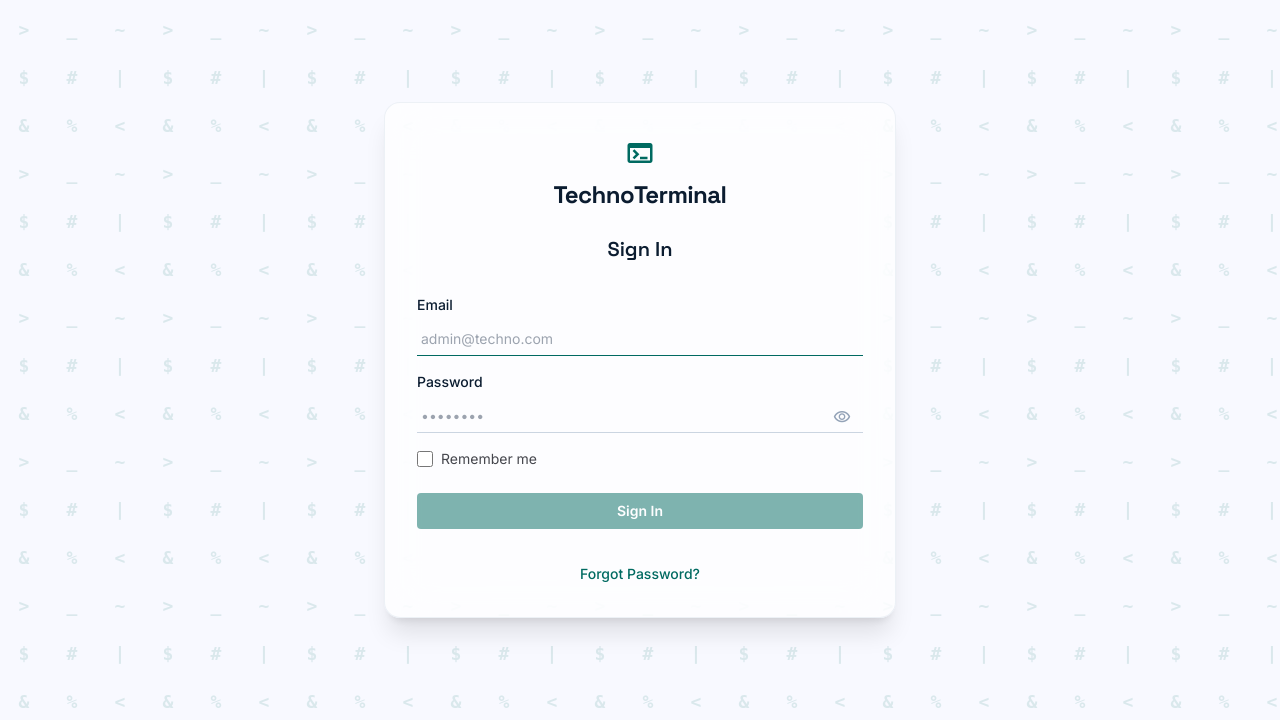
Test: LoginPage › shows error message on failed login
Step 1. Type "a@b.com" into the field labelled "Email" → (640, 340), box x1=417 y1=323 x2=863 y2=356
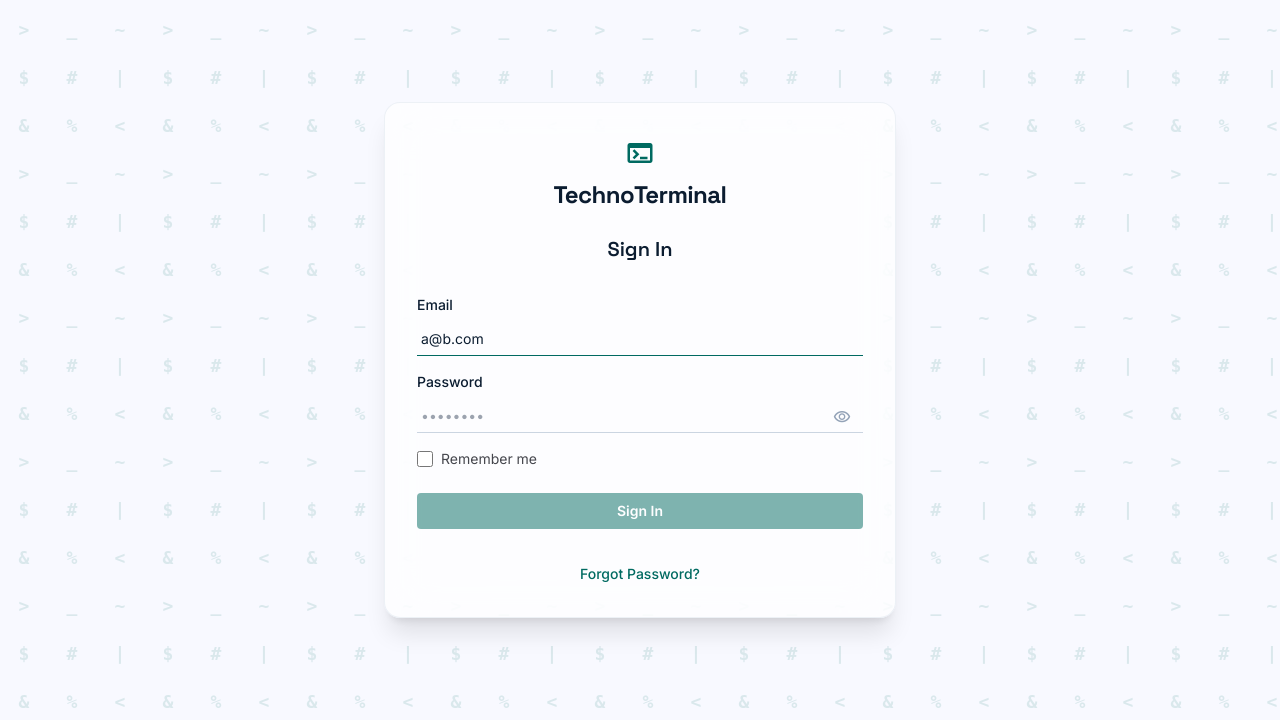
Step 2. Type "wrong" into the password field labelled "Password" → (640, 416), box x1=417 y1=400 x2=863 y2=433
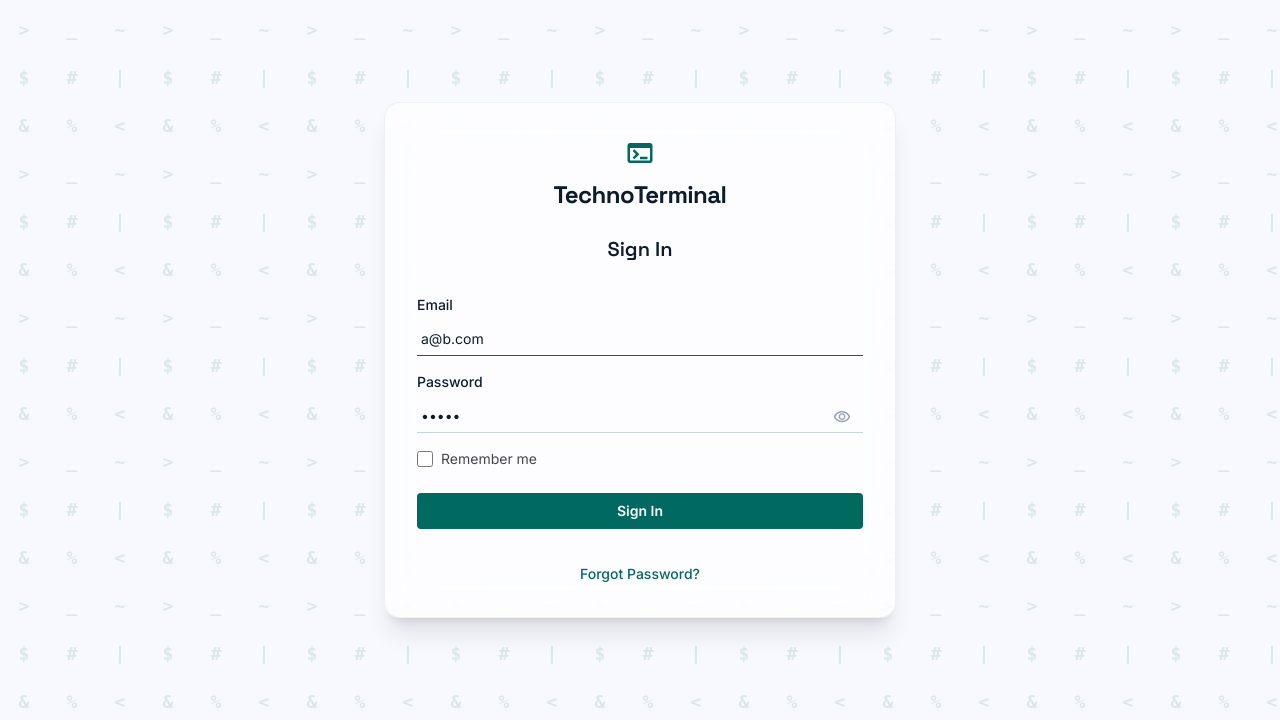
Step 3. Click the button "Sign In" → (640, 511), box x1=417 y1=493 x2=863 y2=529
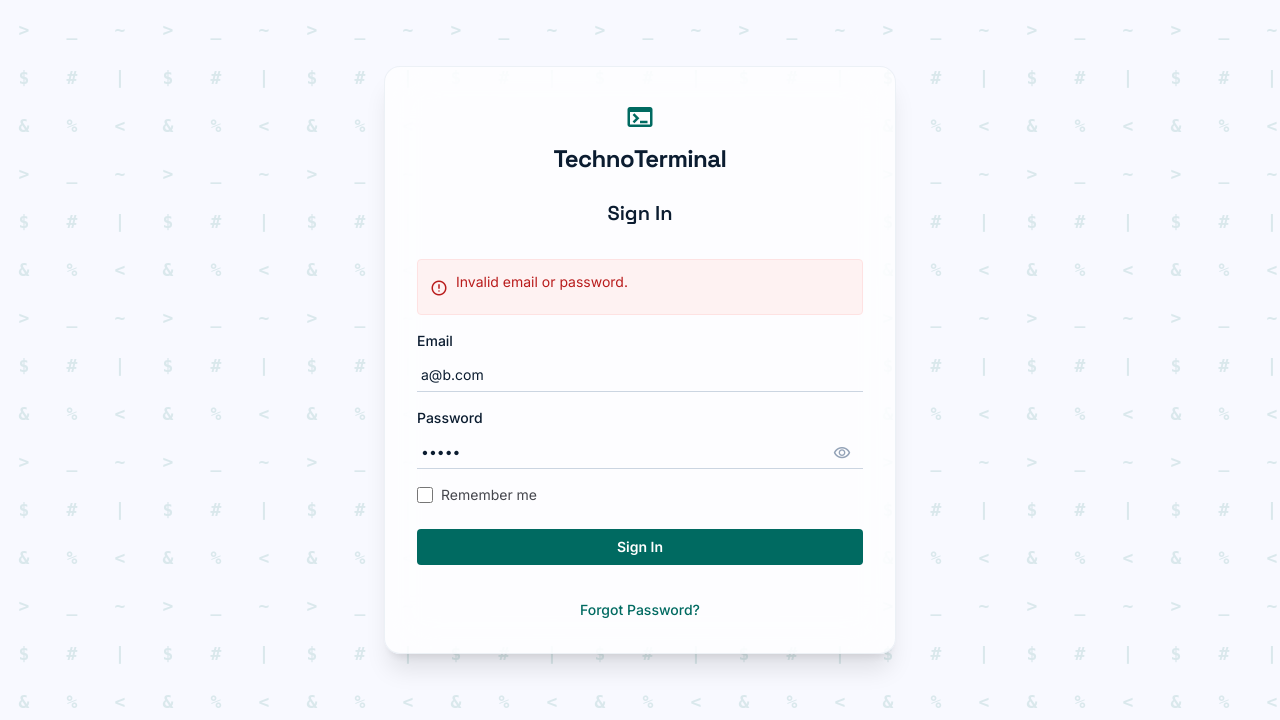
Expected: the text "Invalid email or password." is shown, x1=456 y1=272 x2=628 y2=292
